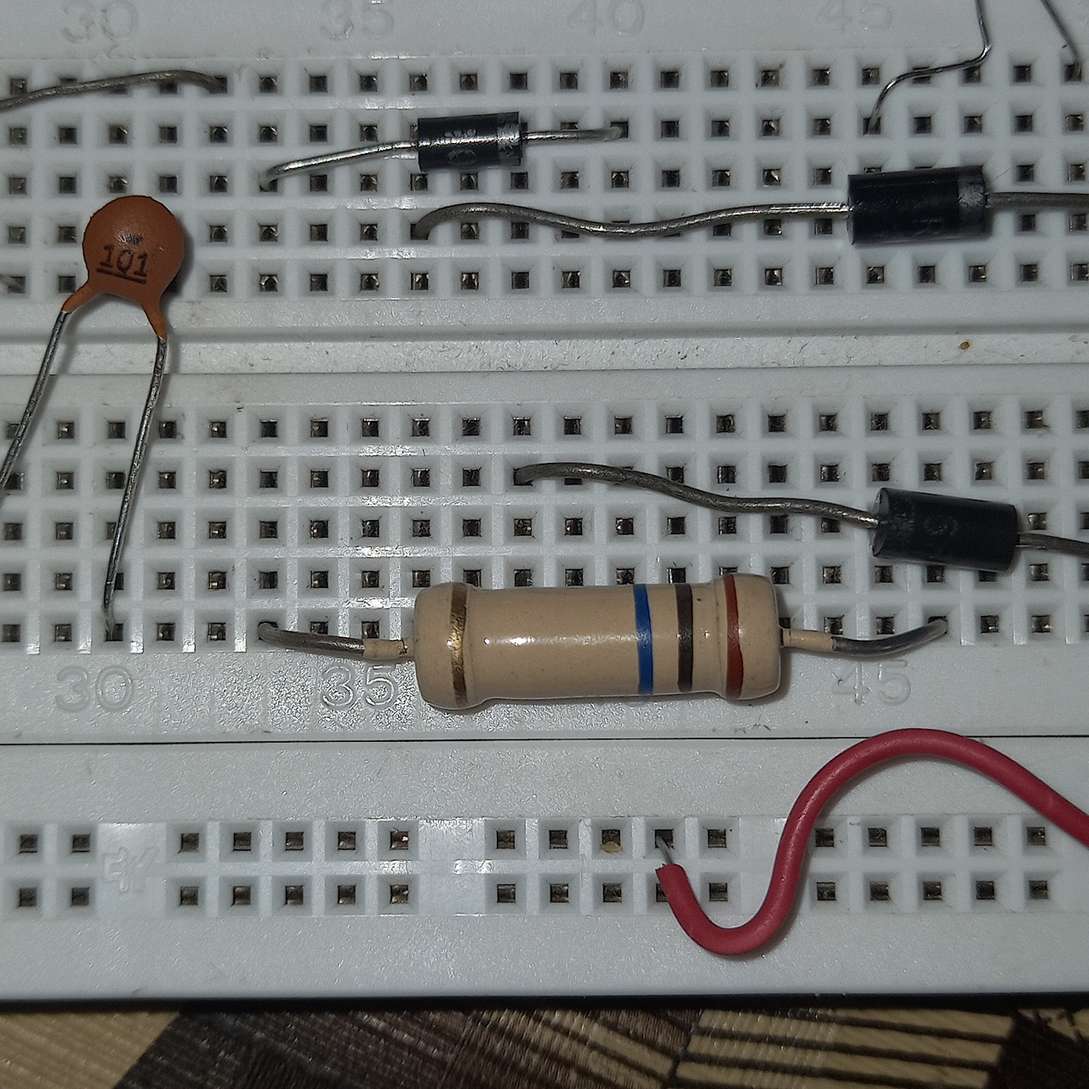capacitor: (76, 195, 186, 318)
resistor: (403, 574, 791, 720)
